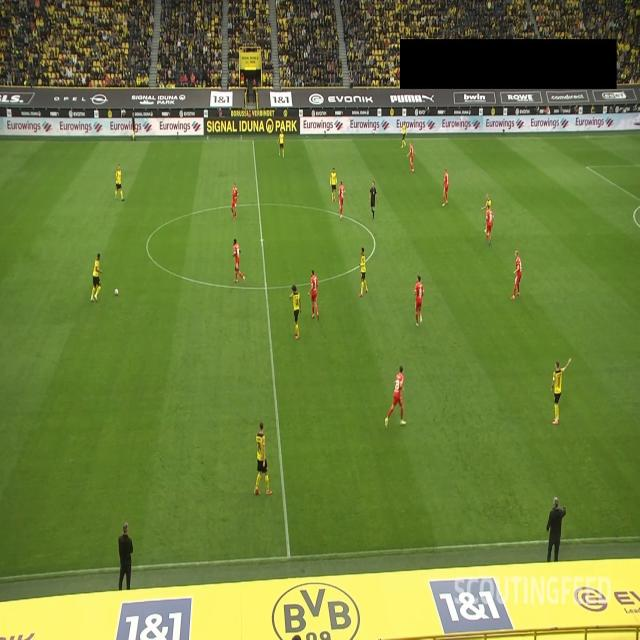ball: (114, 288, 119, 296)
